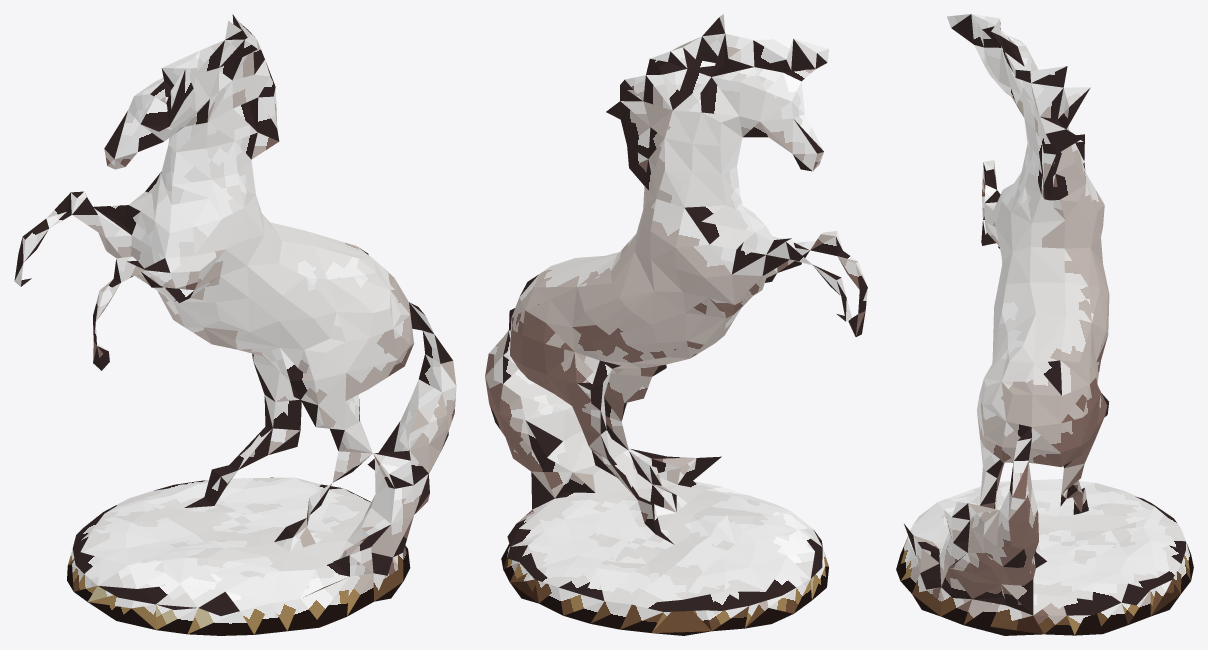
File: horse_statue.glb
The picture shows the model from 3 angles, left to right: view 1: azimuth 30°, elevation 25°; view 2: azimuth 150°, elevation 25°; view 3: azimuth 270°, elevation 25°; orthographic projection. The views are drawn at different scales.
Parts seen in each view (by area): view 1: mesh; view 2: mesh; view 3: mesh.
Boxes of the visible parts, x1,y1,x2,y2 form: mesh: [14, 14, 456, 635]; mesh: [485, 14, 867, 635]; mesh: [896, 14, 1193, 635].
Size of the model in its own units: 17.36 by 24 by 11.87.
Materials: 1 (1 with a texture image).
